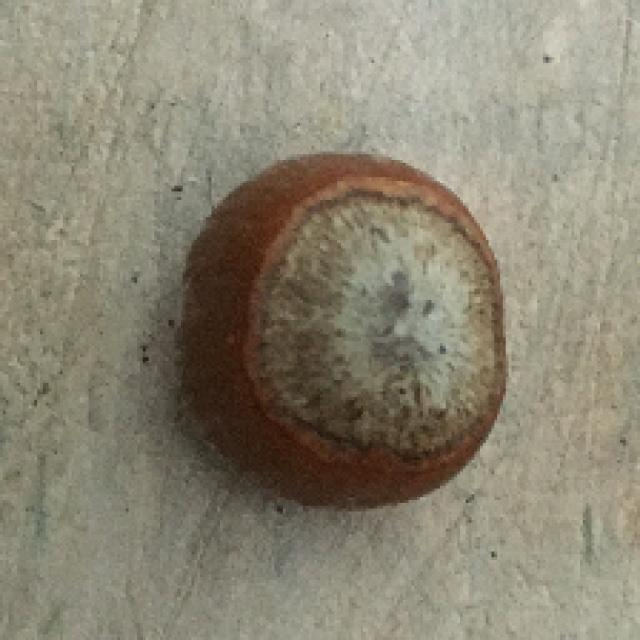qualityHazelnut: (168, 140, 507, 519)
